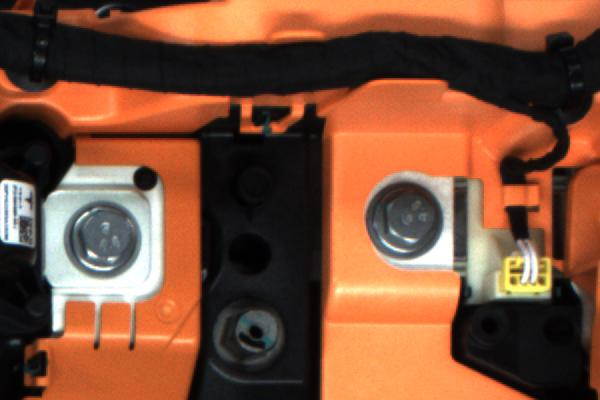nut_b: (48, 200, 144, 275), (365, 181, 449, 265)
